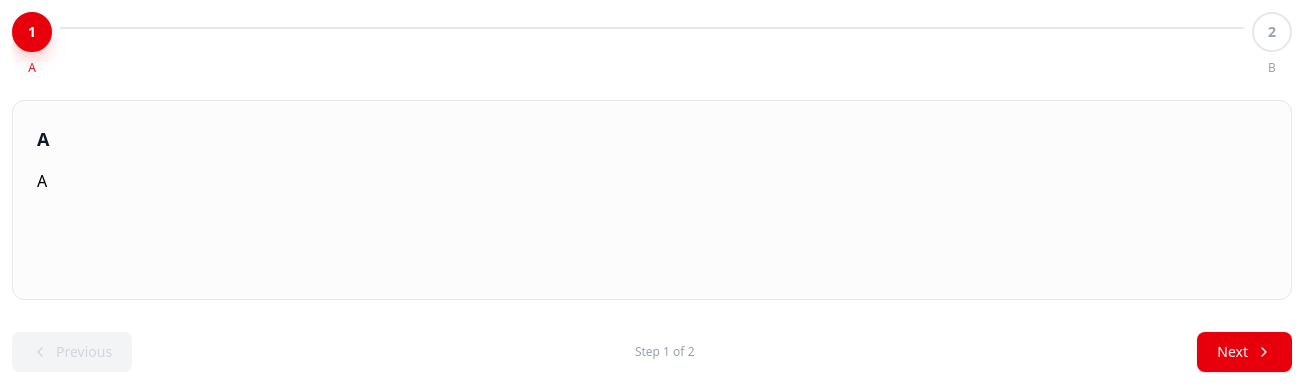
Test: Form Component — Multi-Stage Navigation › Step Validation › steps without validate() always pass
The width and height of the screenshot is (1304, 390).
Click the button "Next": (1245, 352) [1197, 332, 1292, 372]
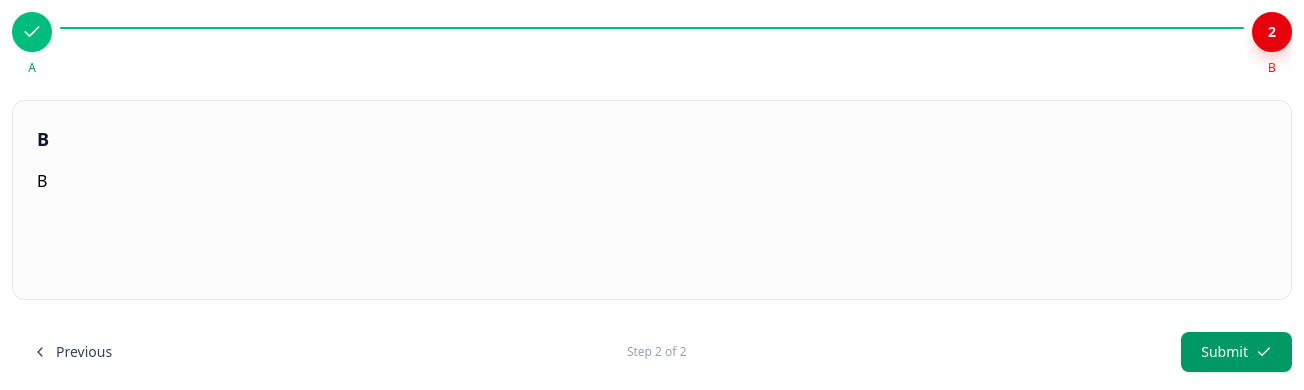
Now the text with test id "b" is shown, box [37, 170, 47, 192]
